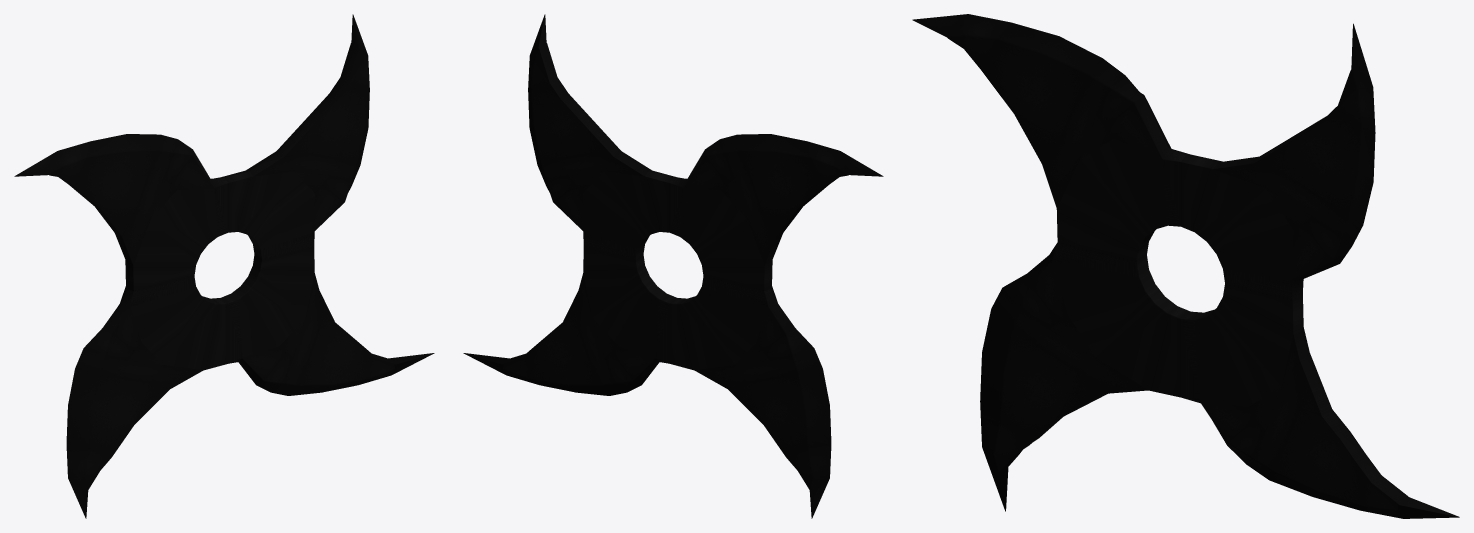
The model's file is Shuriken4Dagas.obj.
The picture shows the model from 3 angles, left to right: view 1: azimuth 30°, elevation 25°; view 2: azimuth 150°, elevation 25°; view 3: azimuth 330°, elevation 25°; orthographic projection. The views are drawn at different scales.
Parts seen in each view (by area): view 1: Shuriken; view 2: Shuriken; view 3: Shuriken.
Boxes of the visible parts, <box> form: Shuriken: <box>14,14,434,518</box>; Shuriken: <box>463,14,883,518</box>; Shuriken: <box>912,14,1459,518</box>.
Bounding box in the file's own units: 4.68 × 4.68 × 0.1518.
